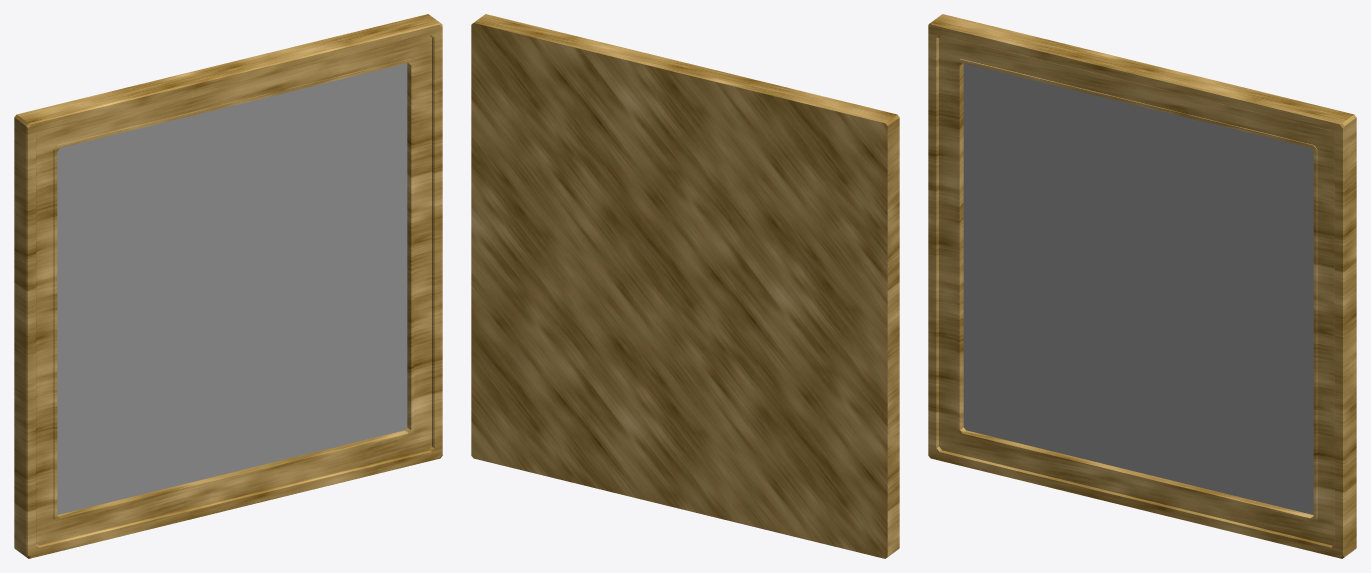
The model's file is Misc_SquareFrame.fbx.
3 renders of one model, left to right at view 1: azimuth 30°, elevation 25°; view 2: azimuth 150°, elevation 25°; view 3: azimuth 330°, elevation 25°, orthographic.
Parts seen in each view (by area): view 1: PictureFrameSquareUVd:pCube1; view 2: PictureFrameSquareUVd:pCube1; view 3: PictureFrameSquareUVd:pCube1.
Boxes of the visible parts, bbox=[...] form: PictureFrameSquareUVd:pCube1: bbox=[14, 14, 442, 558]; PictureFrameSquareUVd:pCube1: bbox=[471, 14, 899, 558]; PictureFrameSquareUVd:pCube1: bbox=[928, 14, 1356, 558].
Size of the model in its own units: 6.55 by 6.55 by 0.3498.
